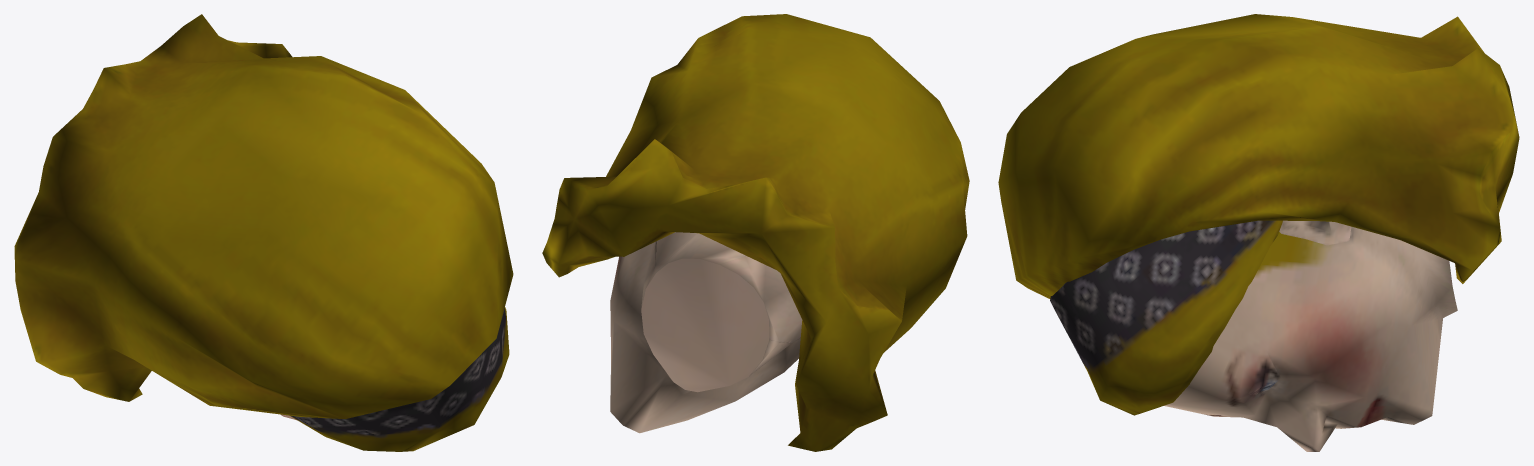
Rendered from dest_nt_nuked_female_05_head_LOD2.obj.
The picture shows the model from 3 angles, left to right: view 1: azimuth 30°, elevation 25°; view 2: azimuth 150°, elevation 25°; view 3: azimuth 270°, elevation 25°; orthographic projection. The views are drawn at different scales.
Visible parts, largest first — view 1: mtl_nt_2020_manne_fem01_hair2; view 2: mtl_nt_2020_manne_fem01_hair2, mtl_nt_2020_manne_fem01_head2; view 3: mtl_nt_2020_manne_fem01_hair2, mtl_nt_2020_manne_fem01_head2.
Part boxes in pixels (x1=…): mtl_nt_2020_manne_fem01_hair2: x1=14, y1=14, x2=513, y2=451; mtl_nt_2020_manne_fem01_hair2: x1=542, y1=14, x2=969, y2=451; mtl_nt_2020_manne_fem01_head2: x1=610, y1=232, x2=802, y2=433; mtl_nt_2020_manne_fem01_hair2: x1=998, y1=14, x2=1519, y2=415; mtl_nt_2020_manne_fem01_head2: x1=1164, y1=220, x2=1457, y2=451.
Bounding box in the file's own units: 27.87 × 26.05 × 32.5.
